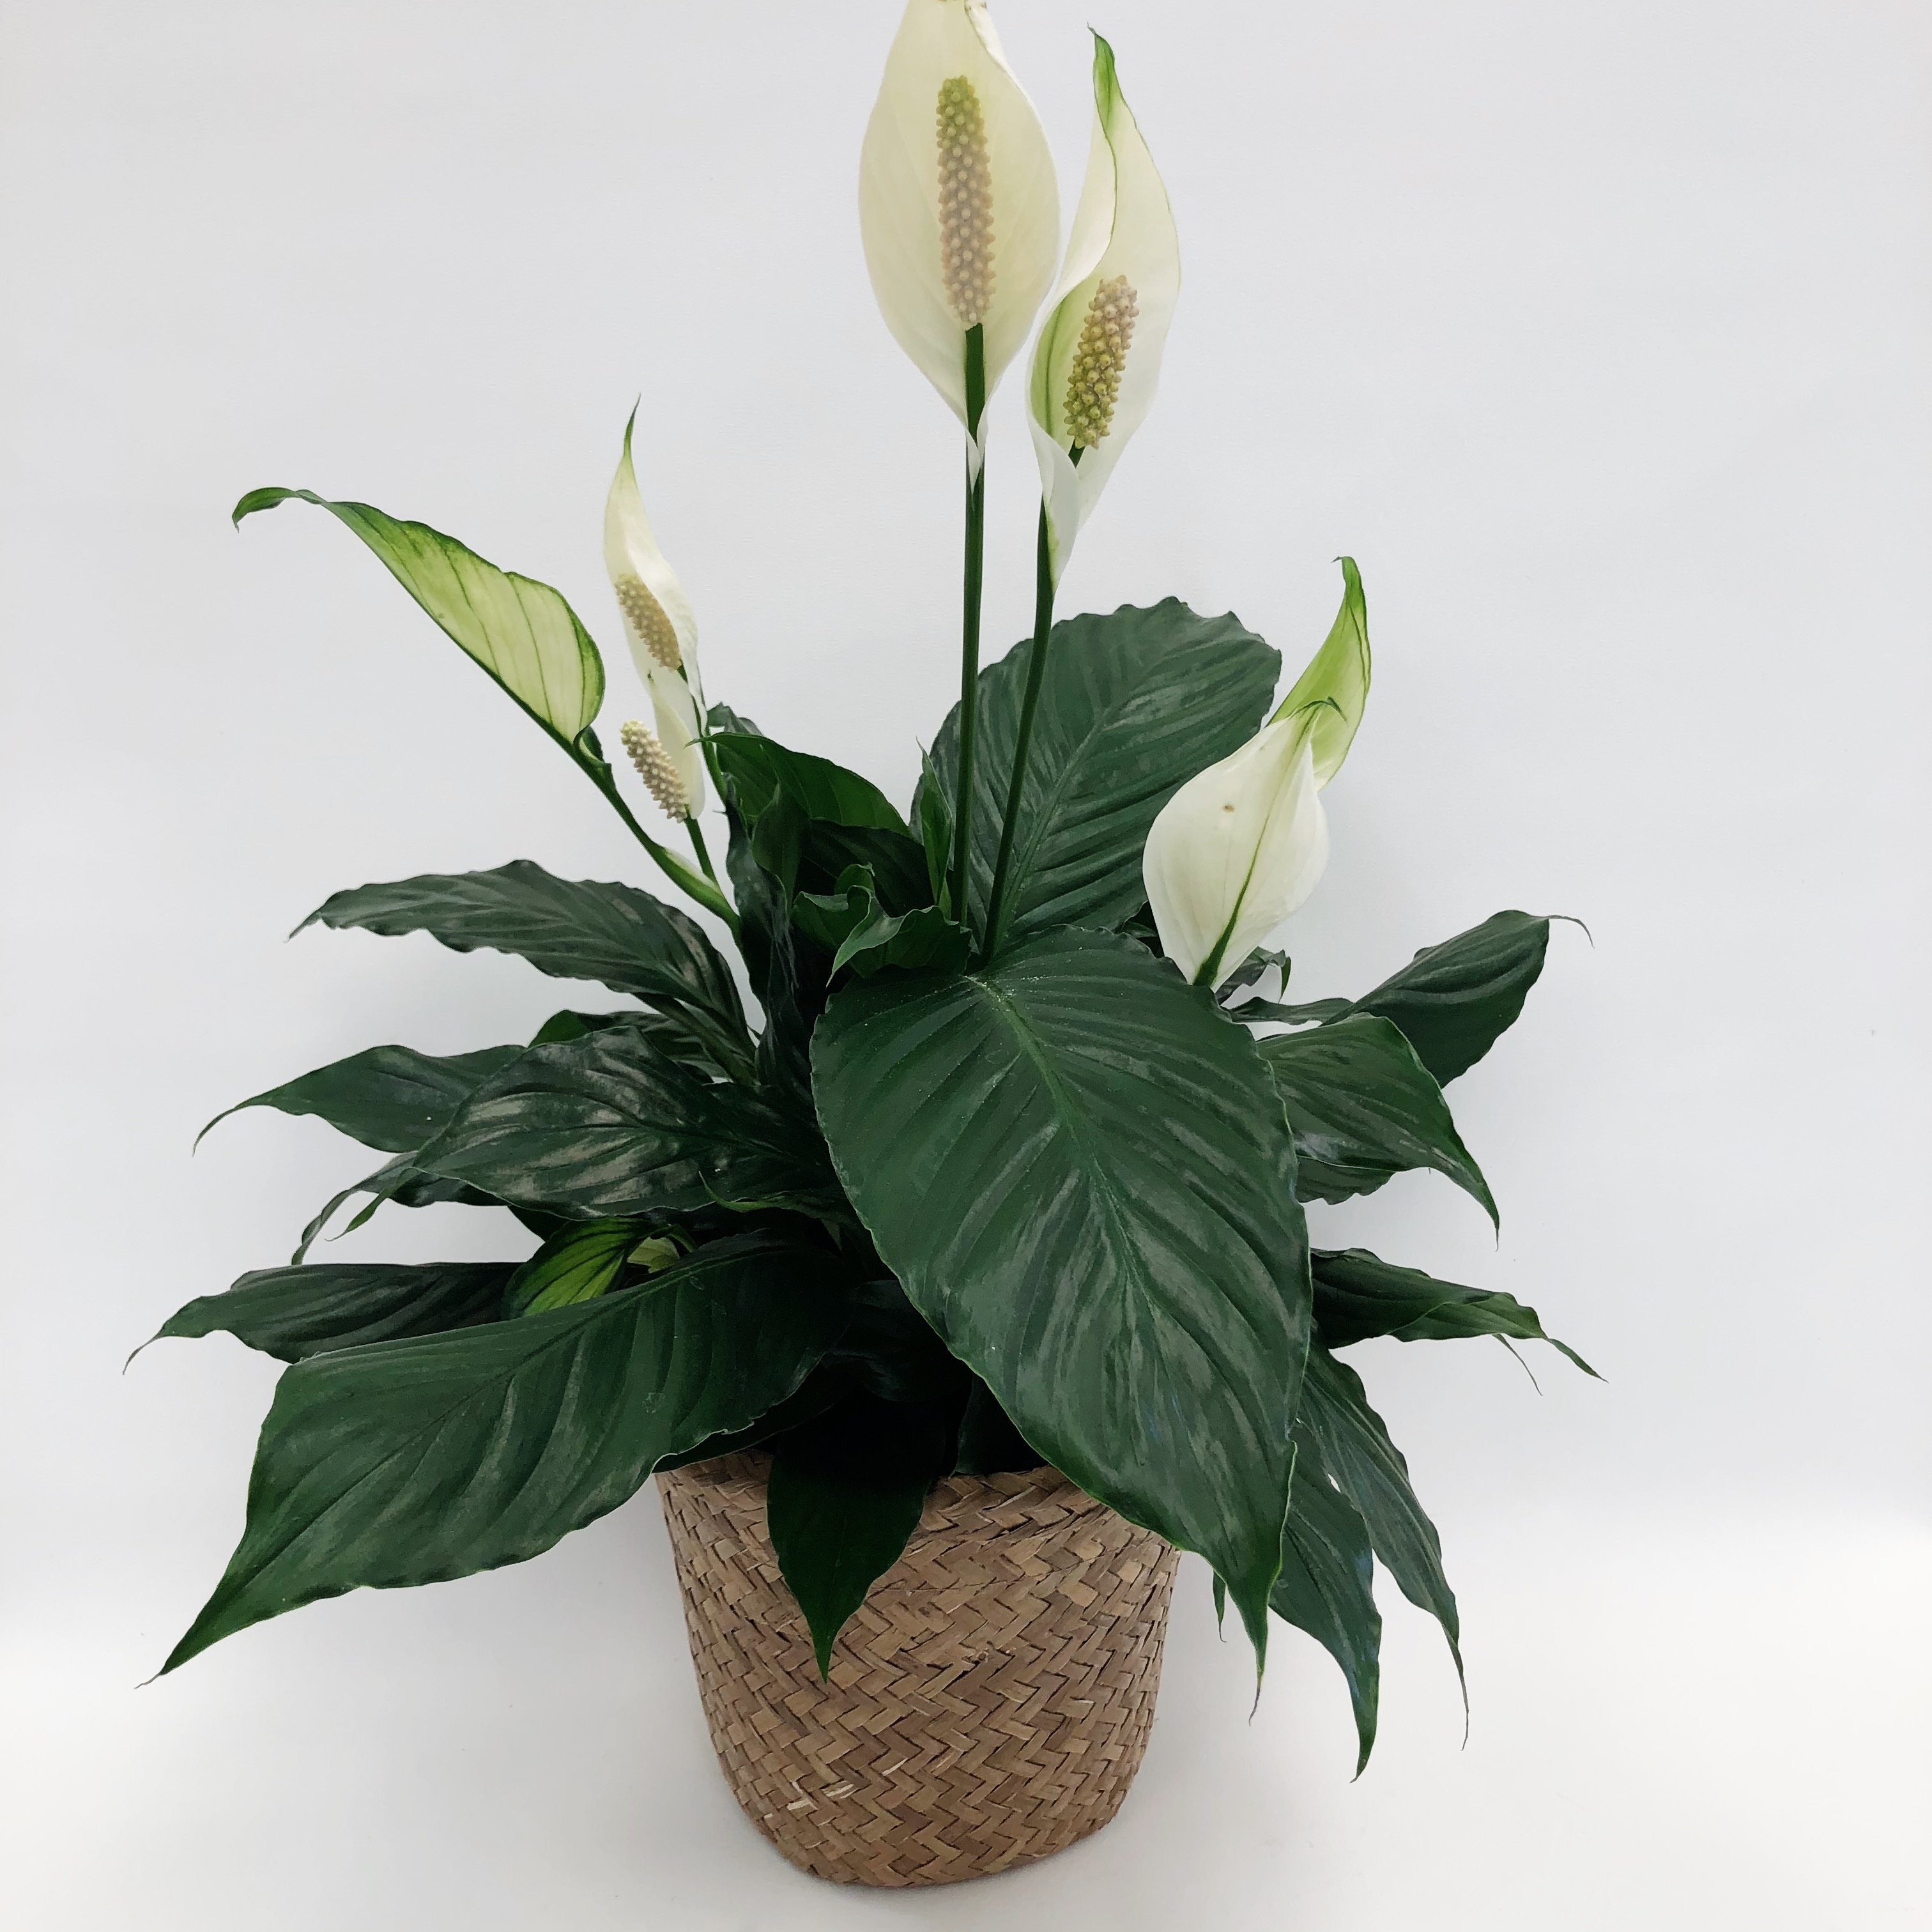plant: (53, 0, 1704, 1907)
